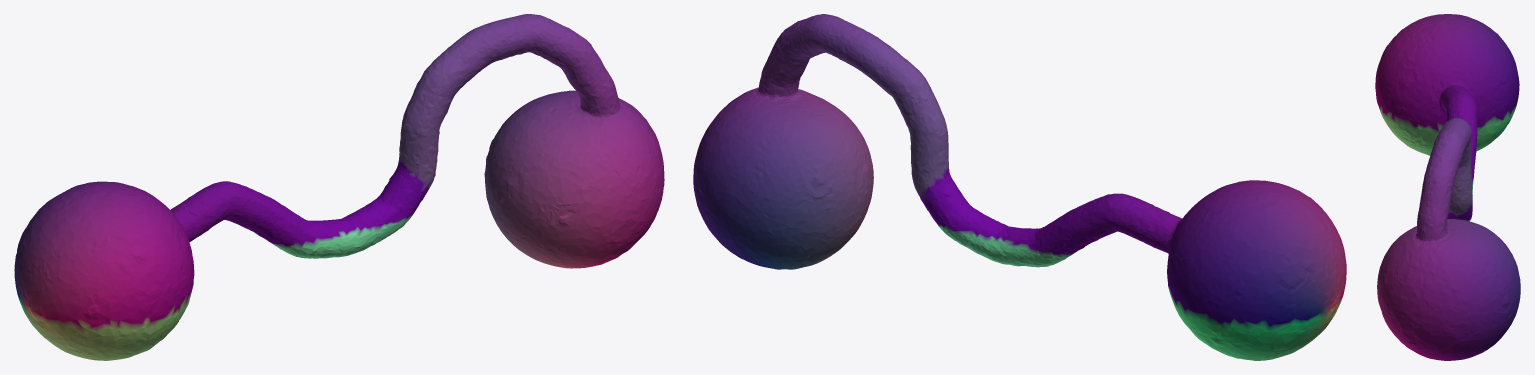
Rendered from twoballs-12.off.obj.
The picture shows the model from 3 angles, left to right: view 1: azimuth 30°, elevation 25°; view 2: azimuth 150°, elevation 25°; view 3: azimuth 270°, elevation 25°; orthographic projection. The views are drawn at different scales.
Size of the model in its own units: 1.72 by 0.6684 by 0.4309.
